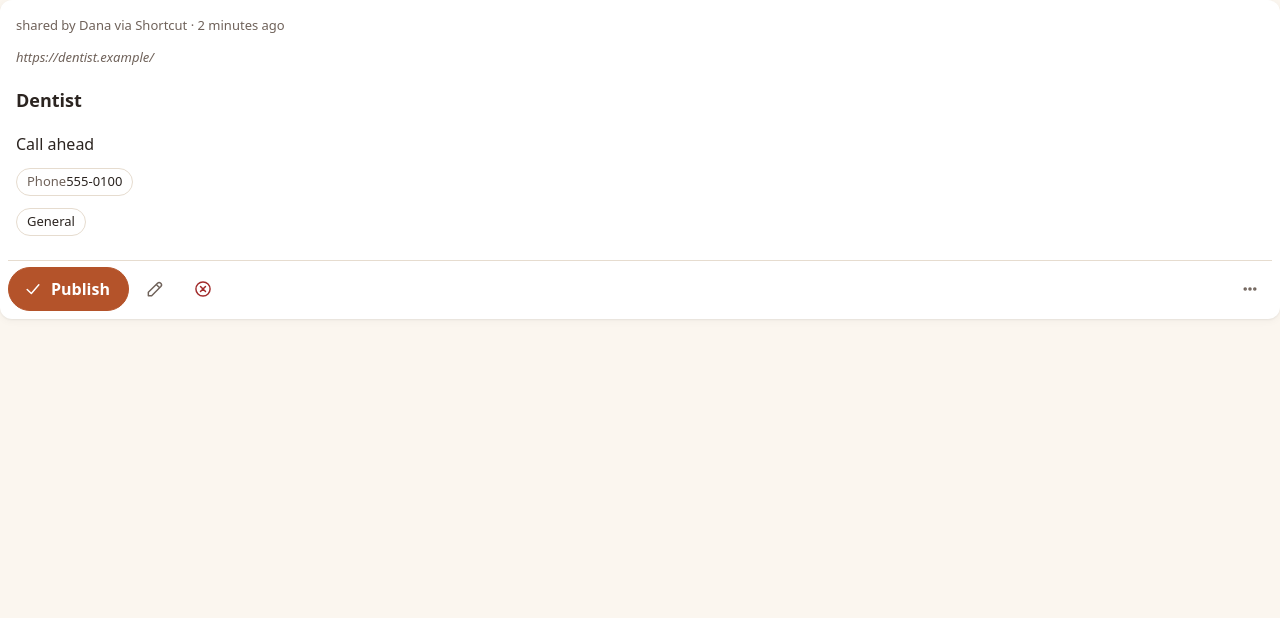
ReviewCard › keeps the form open and shows the error when saving fails
Click the button named "Edit" at (155, 288), box [133,266,177,310]
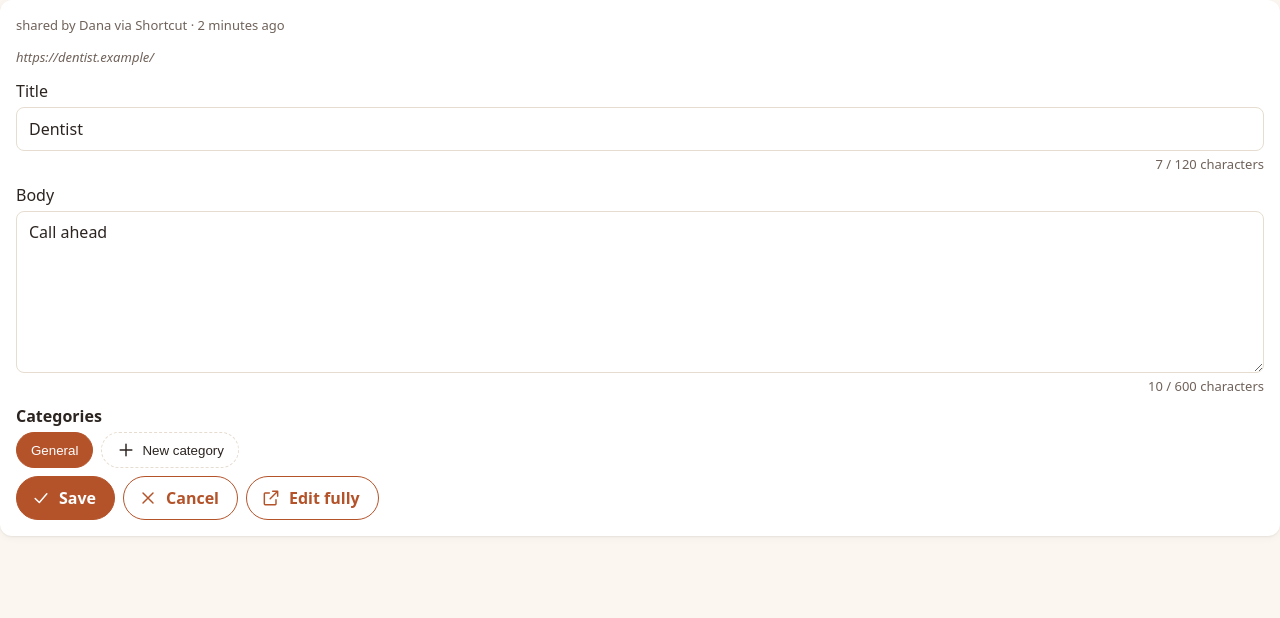
Replace the text in the text box labelled "Body" with "Changed" at (640, 292), box [16,210,1264,372]
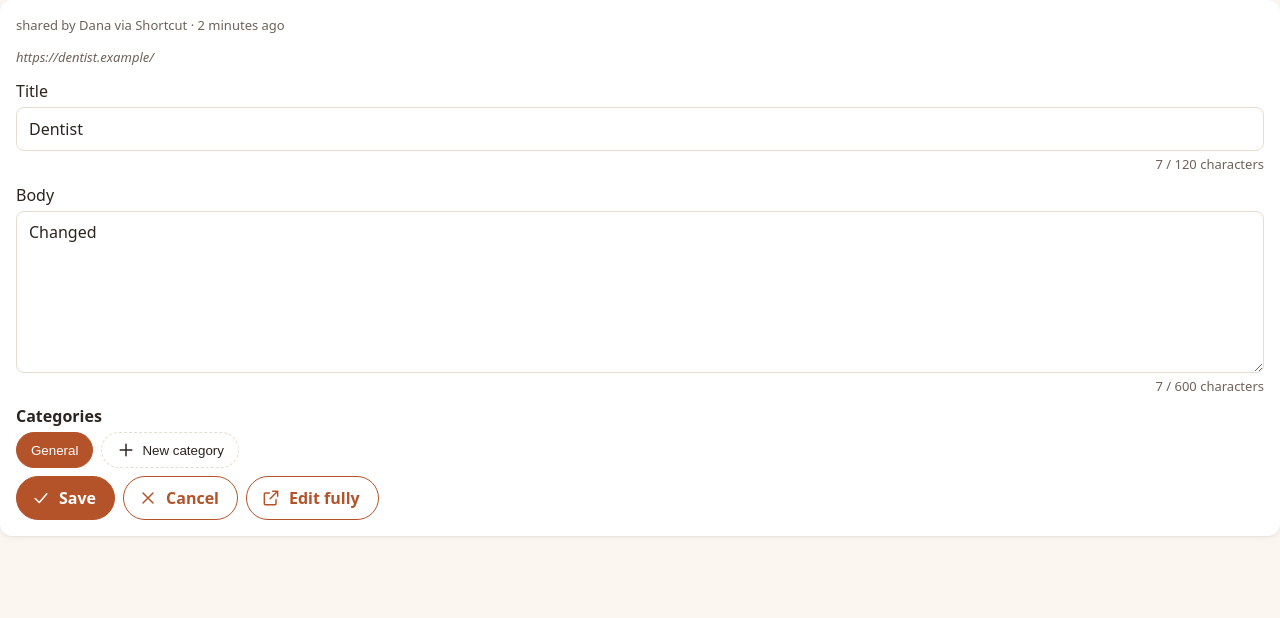
Click the button "Save" at (66, 498), box [16,476,115,520]
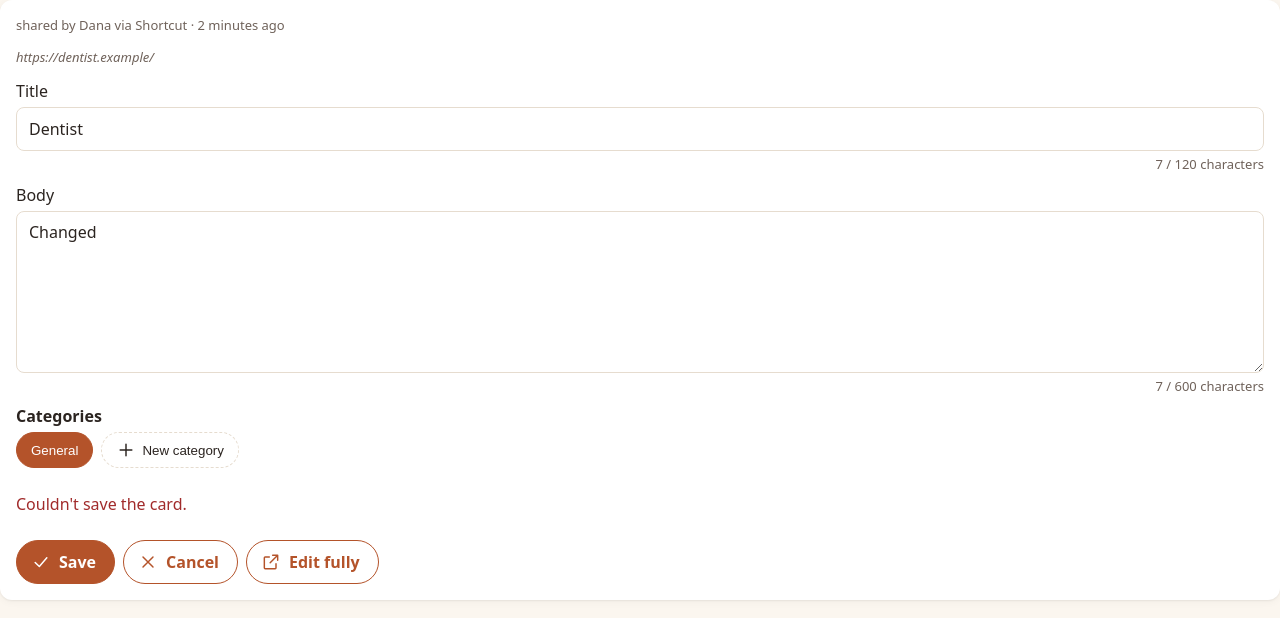
Expected: the button "Save" is shown, [16,540,115,584]
Expected: the message "Couldn't save the card." is shown, [16,493,187,515]
